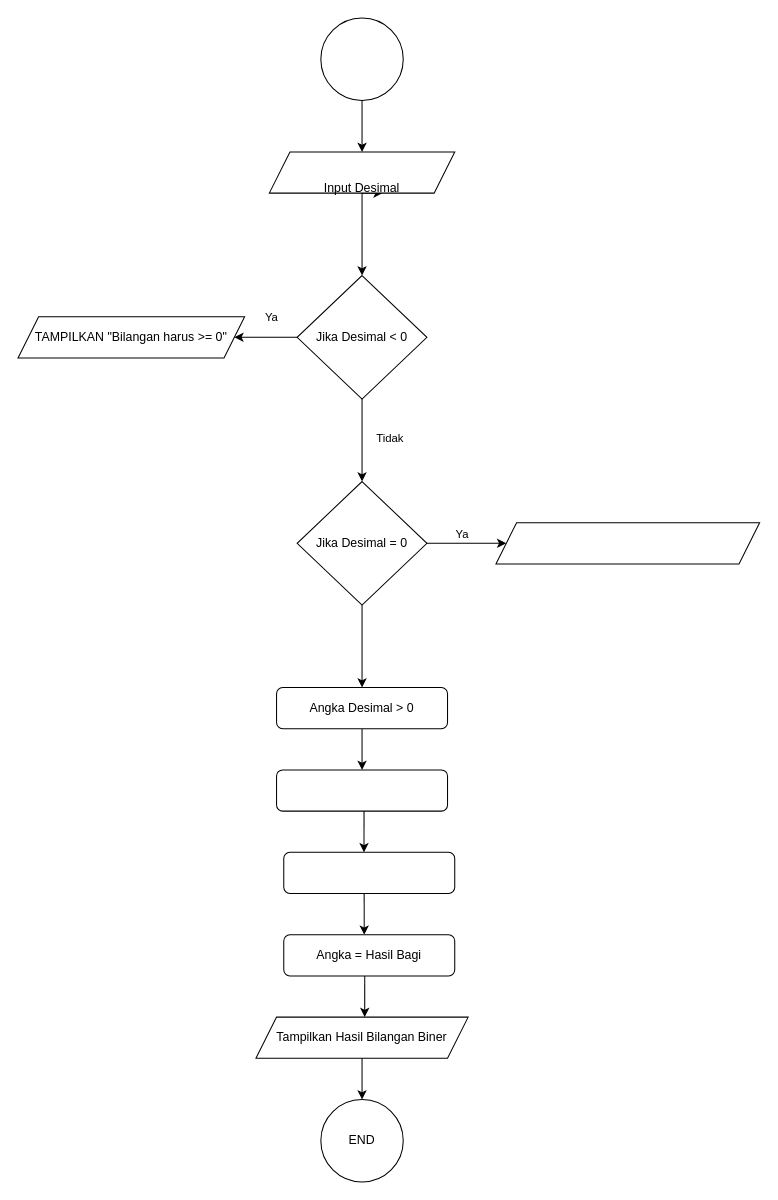
The diagram is 778 pixels wide and 1200 high, and some of its shapes have lost their labels. The shapes that lost their labels are listed below. From the top down, each one's centre as x and y in pixels, then its label:
point 361,58: START
point 627,543: TAMPILKAN "0 dalam biner adalah 0"
point 362,790: Hasil Bagi = Angka // 2
point 369,872: Sisa Angka = Angka % 2
